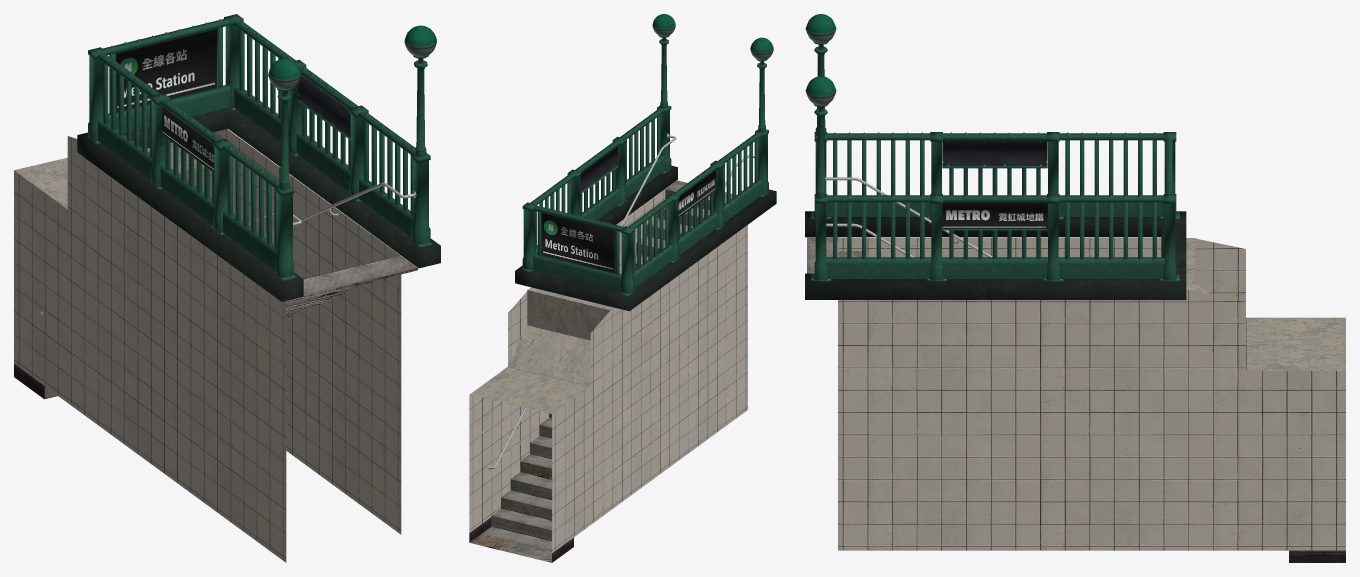
Rendered from metro_gate.glb.
The picture shows the model from 3 angles, left to right: view 1: azimuth 30°, elevation 25°; view 2: azimuth 150°, elevation 25°; view 3: azimuth 270°, elevation 25°; orthographic projection. The views are drawn at different scales.
Visible parts, largest first — view 1: mt_gate; view 2: mt_gate; view 3: mt_gate.
Part boxes in pixels (x1,y1,x2,y2): mt_gate: (14, 14, 440, 562); mt_gate: (469, 14, 776, 562); mt_gate: (805, 14, 1345, 562).
Bounding box in the file's own units: 2.01 × 6.14 × 6.14.
5 materials, 5 textured.
